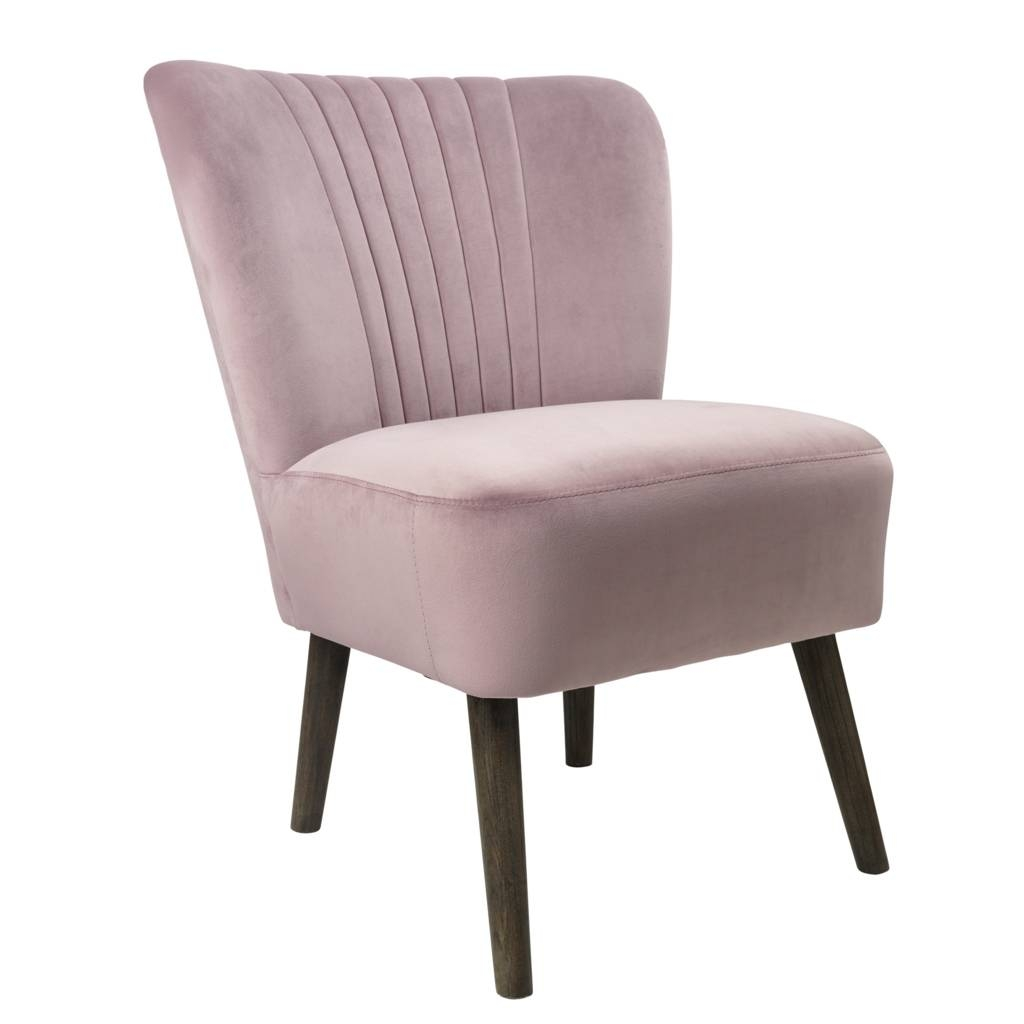chairs: (127, 53, 901, 1005)
